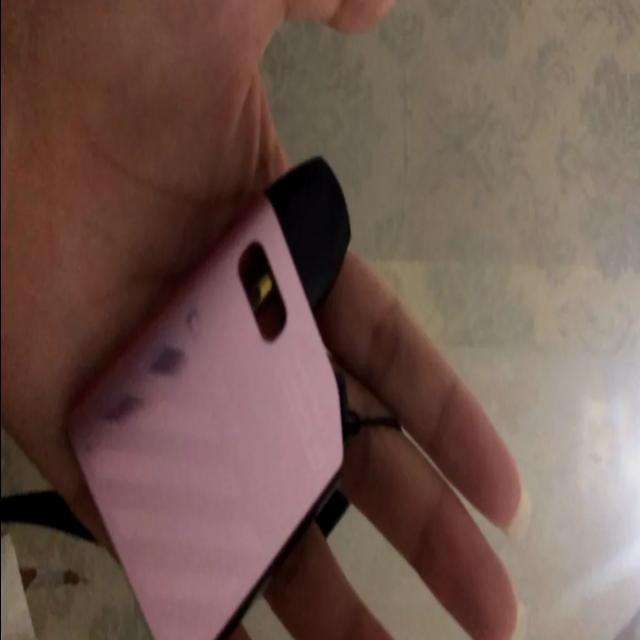Hazard: (62, 155, 352, 640)
